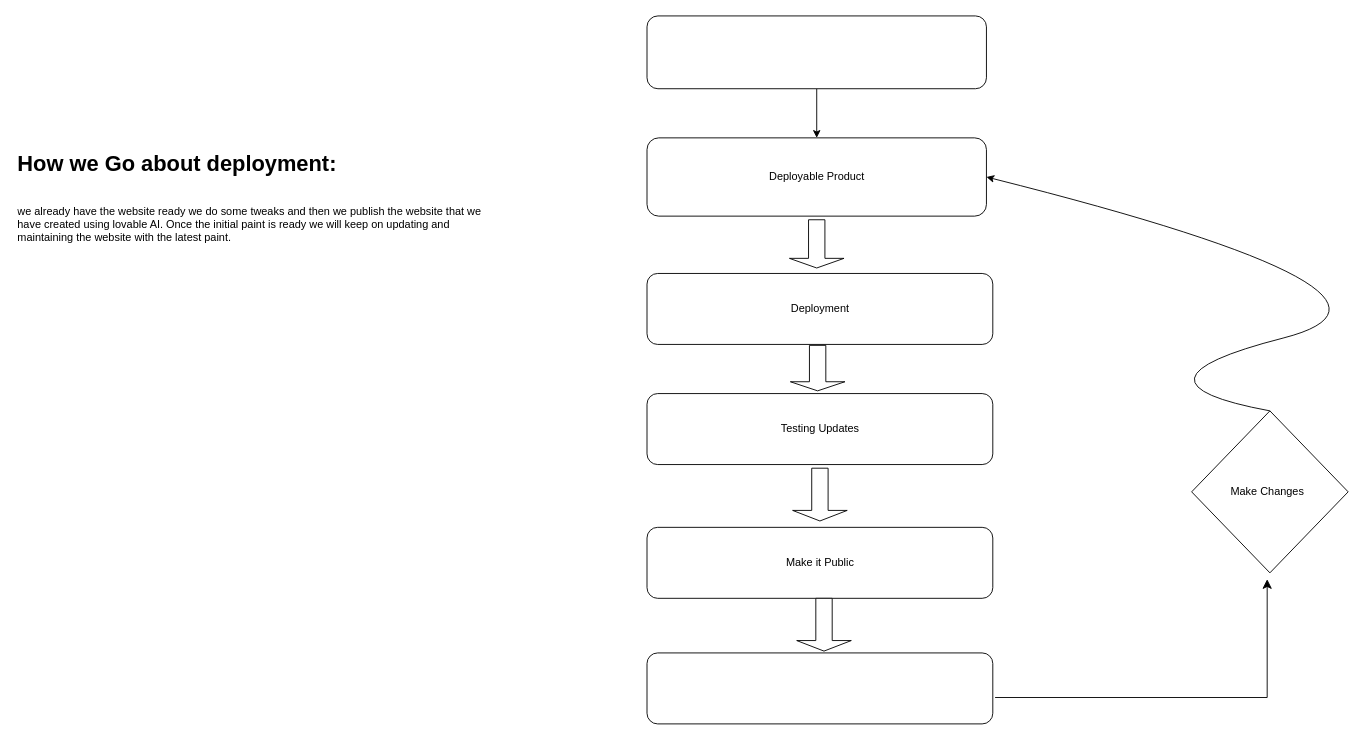
Some shapes in this 1364 by 740 pixel diagram are drawn without their labels. Here are the shapes that lost their labels. From the top down, the centre of each, then its label:
pixel 816 52: Initial Development
pixel 819 688: Collect Feedback
